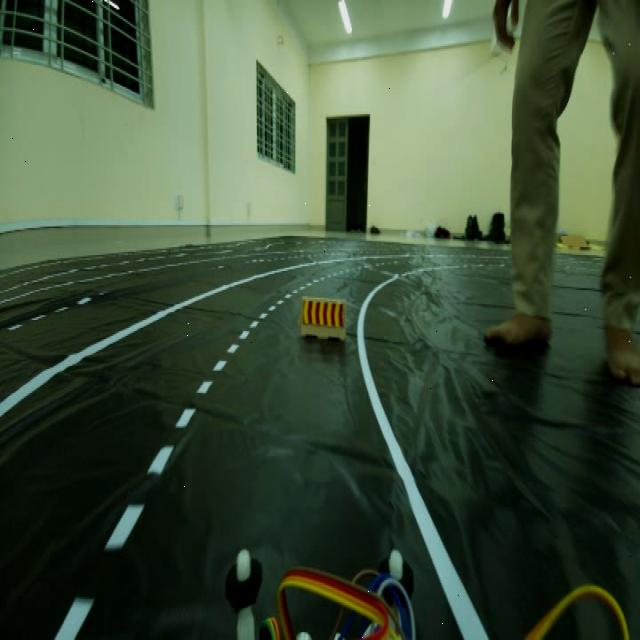roadblock: (296, 279, 350, 342)
